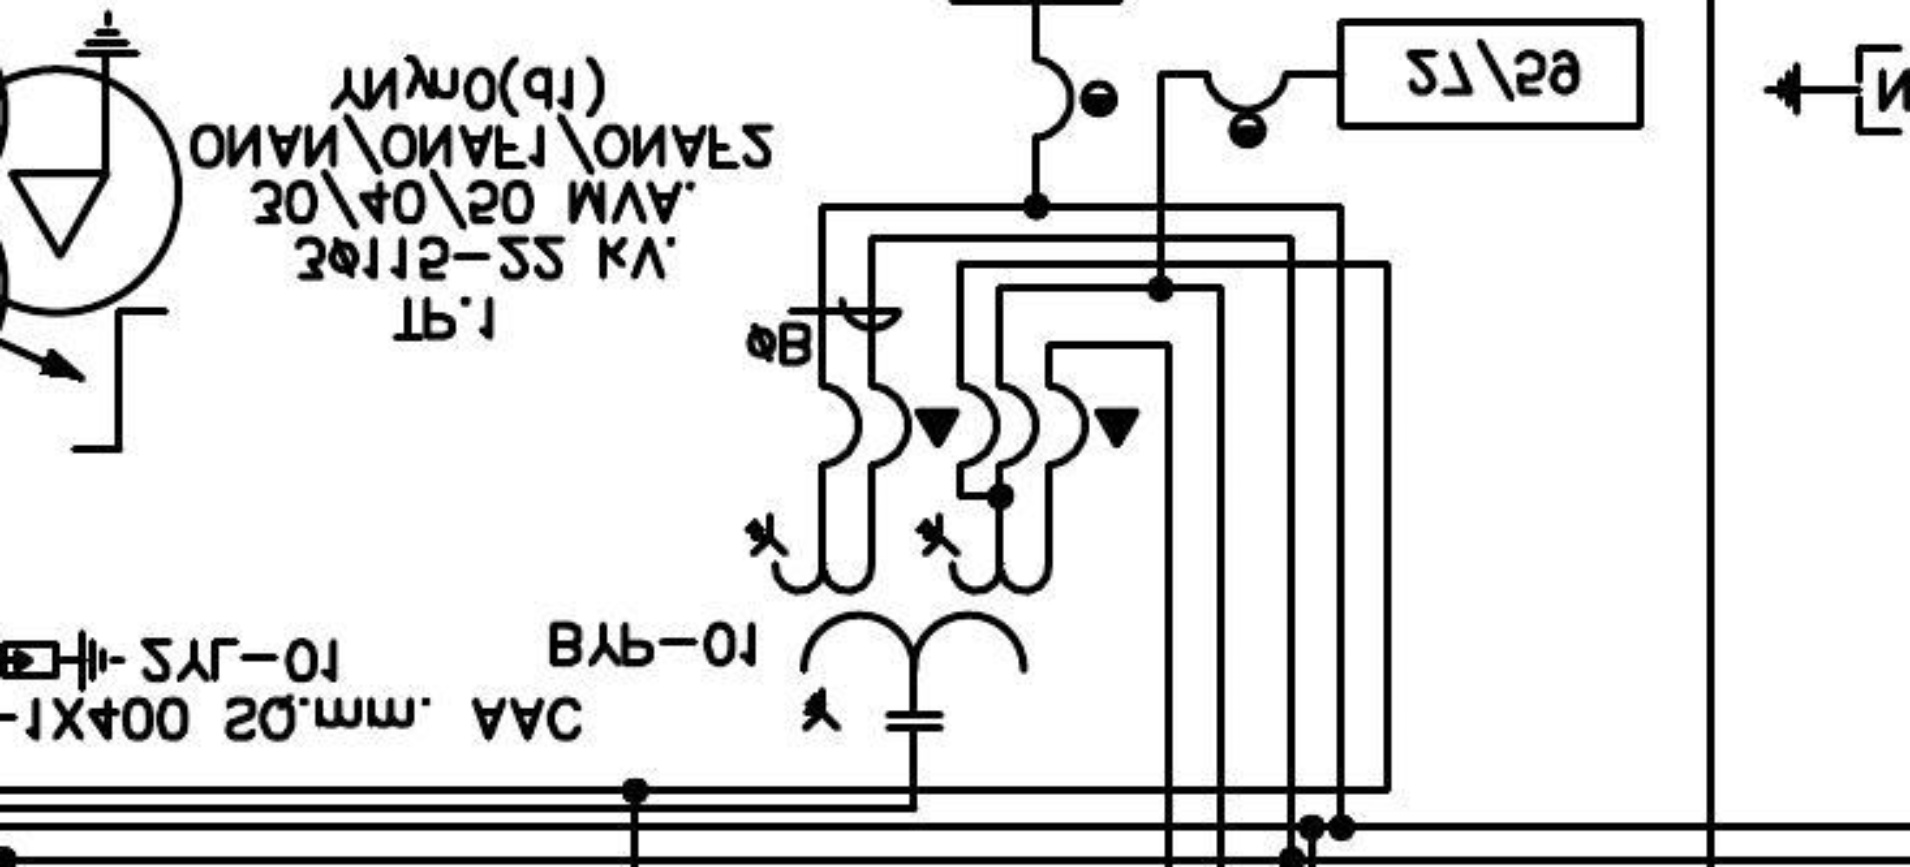115_cvt_3p: (742, 510, 1055, 733)
